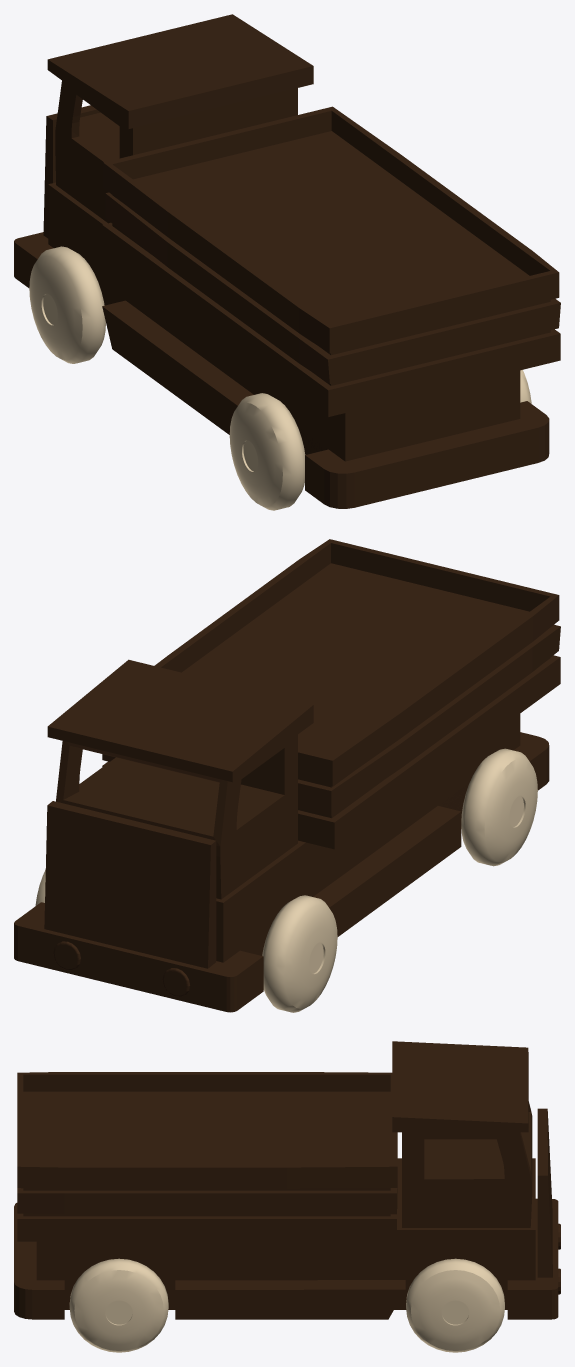
File: 1camion.glb
The picture shows the model from 3 angles, top to bottom: view 1: azimuth 30°, elevation 25°; view 2: azimuth 150°, elevation 25°; view 3: azimuth 270°, elevation 25°; orthographic projection. The views are drawn at different scales.
Visible parts, largest first — view 1: truck, tire-1.015; view 2: truck, tire-1.015; view 3: truck, tire-1.015.
Boxes of the visible parts, <box> form: truck: <box>14,14,560,508</box>; tire-1.015: <box>29,246,531,510</box>; truck: <box>14,539,560,1012</box>; tire-1.015: <box>35,748,537,1012</box>; truck: <box>14,1041,560,1319</box>; tire-1.015: <box>69,1258,504,1352</box>.
Bounding box in the file's own units: 0.1285 × 0.1262 × 0.2766.
Materials: 2 (1 with a texture image).
